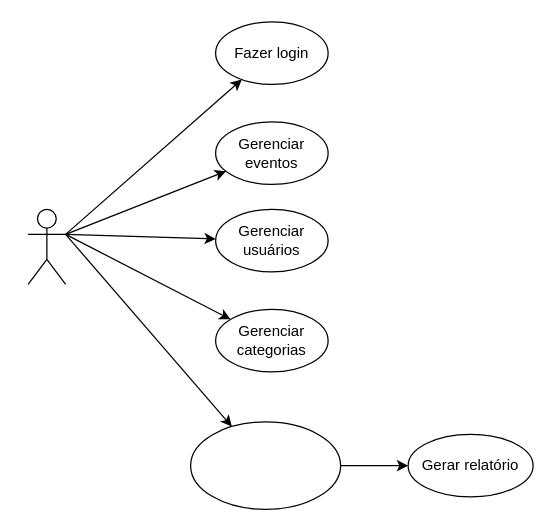
This 555x531 diagram has some shape labels left out. Here are the shapes that lost their labels. From the top down, the box of each, then its label:
(27, 208, 66, 284): Usuário
(189, 421, 341, 509): Selecionar tipo de relatório
